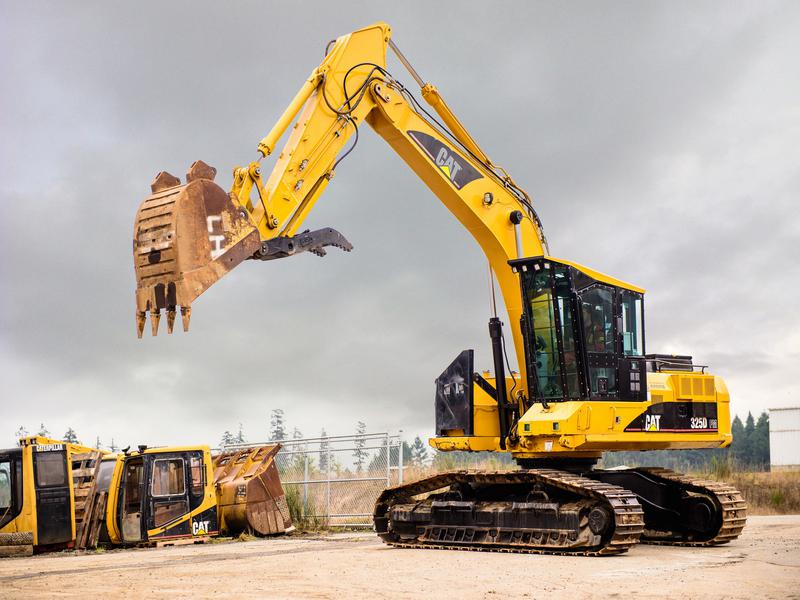shovel: (119, 20, 753, 568)
